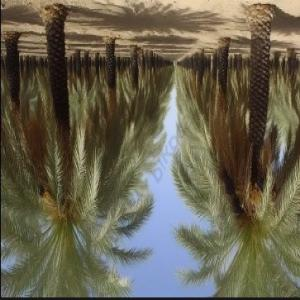palm tree: (0, 1, 174, 296), (171, 1, 299, 296)
